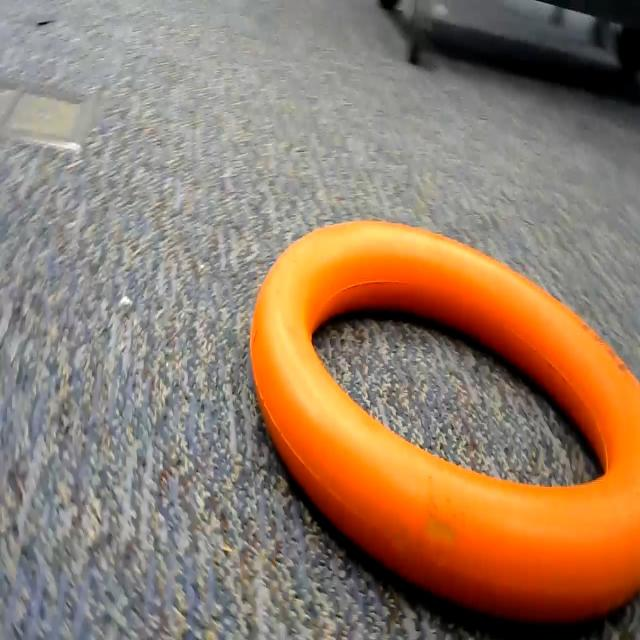note: (241, 201, 640, 621)
